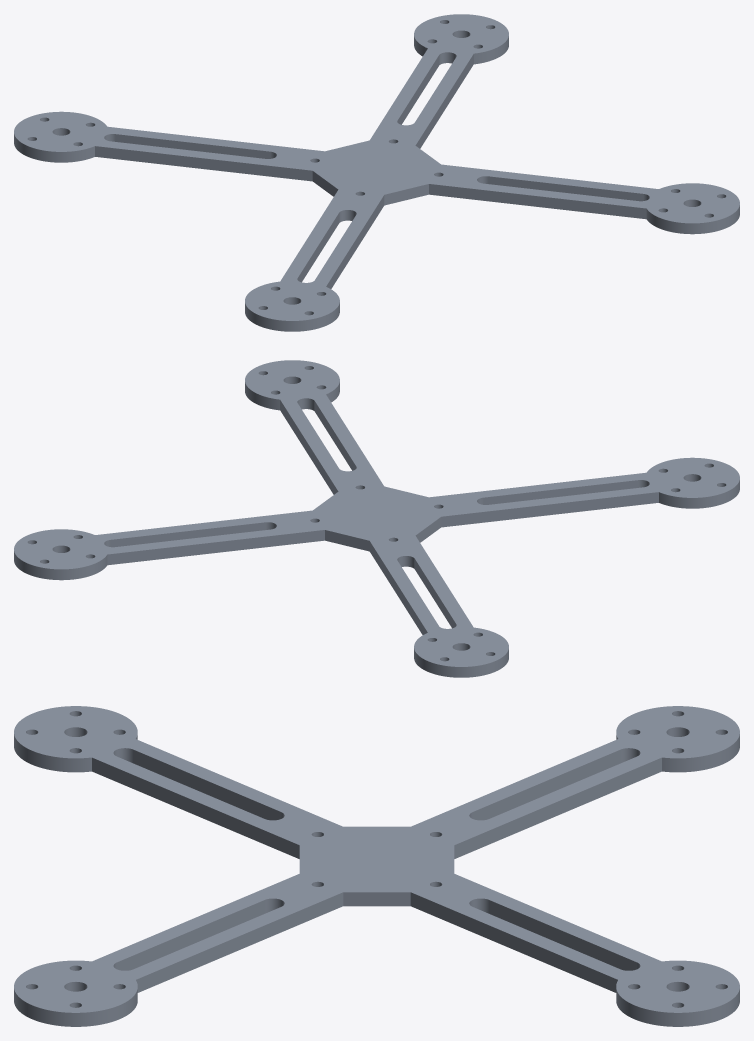
The model's file is step-4.glb.
3 views of the same model, one above another, from view 1: azimuth 30°, elevation 25°; view 2: azimuth 150°, elevation 25°; view 3: azimuth 270°, elevation 25° (orthographic). The views are drawn at different scales.
Parts seen in each view (by area): view 1: face_e3d3501920e987ee22c9, face_65c66fe1e0937397a9d0, face_c3da73c9c2f5c6b37184, face_72a186150b8ffca74dc0, face_5fcf7d22b1e1f6269190, face_99aa3a414971a8e10236, face_3936b62e6fa0d3e30a5a, face_dd56d3a8a9a30ec413dd, face_de8c72e43f954061460f, face_6d05d407728fafc427f5, face_8e73c7c34ffd2414a018; view 2: face_e3d3501920e987ee22c9, face_3533421d171926b4baed, face_e3d30ccce09407a87e97, face_dde3cf3ab95fe1ec883b, face_e3a824406679709208ca, face_dd56d3a8a9a30ec413dd, face_8e73c7c34ffd2414a018, face_99aa3a414971a8e10236, face_111ebc612d3cc0528e19, face_08830a98a8640858c9c0, face_3936b62e6fa0d3e30a5a; view 3: face_e3d3501920e987ee22c9, face_08830a98a8640858c9c0, face_6d05d407728fafc427f5, face_de8c72e43f954061460f, face_111ebc612d3cc0528e19, face_cd32246b788d0a4f4f10, face_76341fea90bdde540ae3, face_ea73b7c2fb7431e45ebc, face_d94ec763fa91684b6ef9, face_8e73c7c34ffd2414a018, face_3936b62e6fa0d3e30a5a, face_dd56d3a8a9a30ec413dd (+2 smaller).
Boxes of the visible parts, x1,y1,x2,y2 form: face_e3d3501920e987ee22c9: (14,14,739,320); face_65c66fe1e0937397a9d0: (429,184,646,219); face_c3da73c9c2f5c6b37184: (95,146,312,181); face_72a186150b8ffca74dc0: (488,176,643,201); face_5fcf7d22b1e1f6269190: (115,134,270,158); face_99aa3a414971a8e10236: (245,302,339,331); face_3936b62e6fa0d3e30a5a: (646,205,739,234); face_dd56d3a8a9a30ec413dd: (14,134,94,162); face_de8c72e43f954061460f: (415,54,473,148); face_6d05d407728fafc427f5: (326,195,384,288); face_8e73c7c34ffd2414a018: (414,36,508,64); face_e3d3501920e987ee22c9: (14,360,739,666); face_3533421d171926b4baed: (107,530,324,565); face_e3d30ccce09407a87e97: (441,492,658,527); face_dde3cf3ab95fe1ec883b: (110,522,265,547); face_e3a824406679709208ca: (483,480,638,504); face_dd56d3a8a9a30ec413dd: (414,648,508,677); face_8e73c7c34ffd2414a018: (14,551,107,580); face_99aa3a414971a8e10236: (659,480,739,508); face_111ebc612d3cc0528e19: (280,400,338,494); face_08830a98a8640858c9c0: (369,541,427,634); face_3936b62e6fa0d3e30a5a: (245,382,339,410); face_e3d3501920e987ee22c9: (14,706,739,1012); face_08830a98a8640858c9c0: (454,757,661,858); face_6d05d407728fafc427f5: (92,757,299,858); face_de8c72e43f954061460f: (410,892,617,992); face_111ebc612d3cc0528e19: (136,892,343,992); face_cd32246b788d0a4f4f10: (133,749,281,820); face_76341fea90bdde540ae3: (472,749,620,820); face_ea73b7c2fb7431e45ebc: (117,900,264,970); face_d94ec763fa91684b6ef9: (489,900,636,970); face_8e73c7c34ffd2414a018: (616,989,739,1026); face_3936b62e6fa0d3e30a5a: (14,989,137,1026); face_dd56d3a8a9a30ec413dd: (616,734,739,772).
Size of the model in its own units: 0.1875 by 0.004 by 0.1875.
